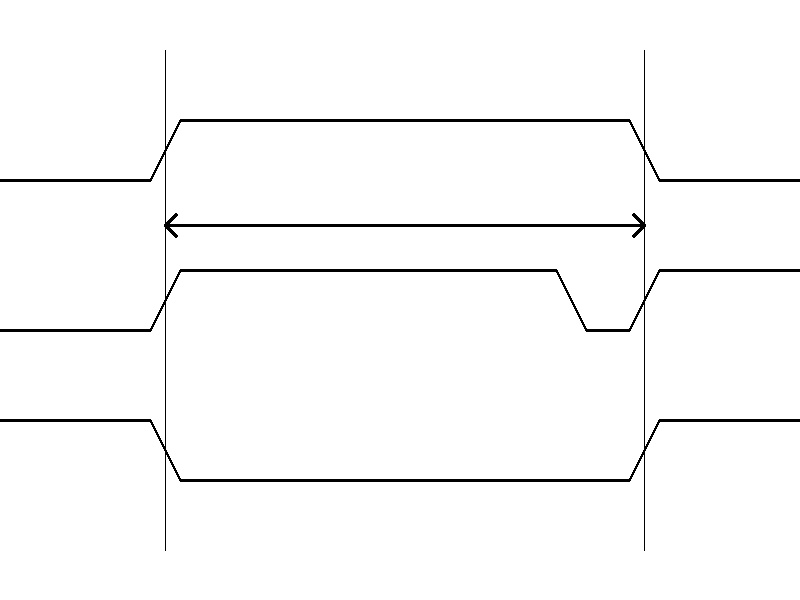double_arrow: (165, 210, 644, 240)
